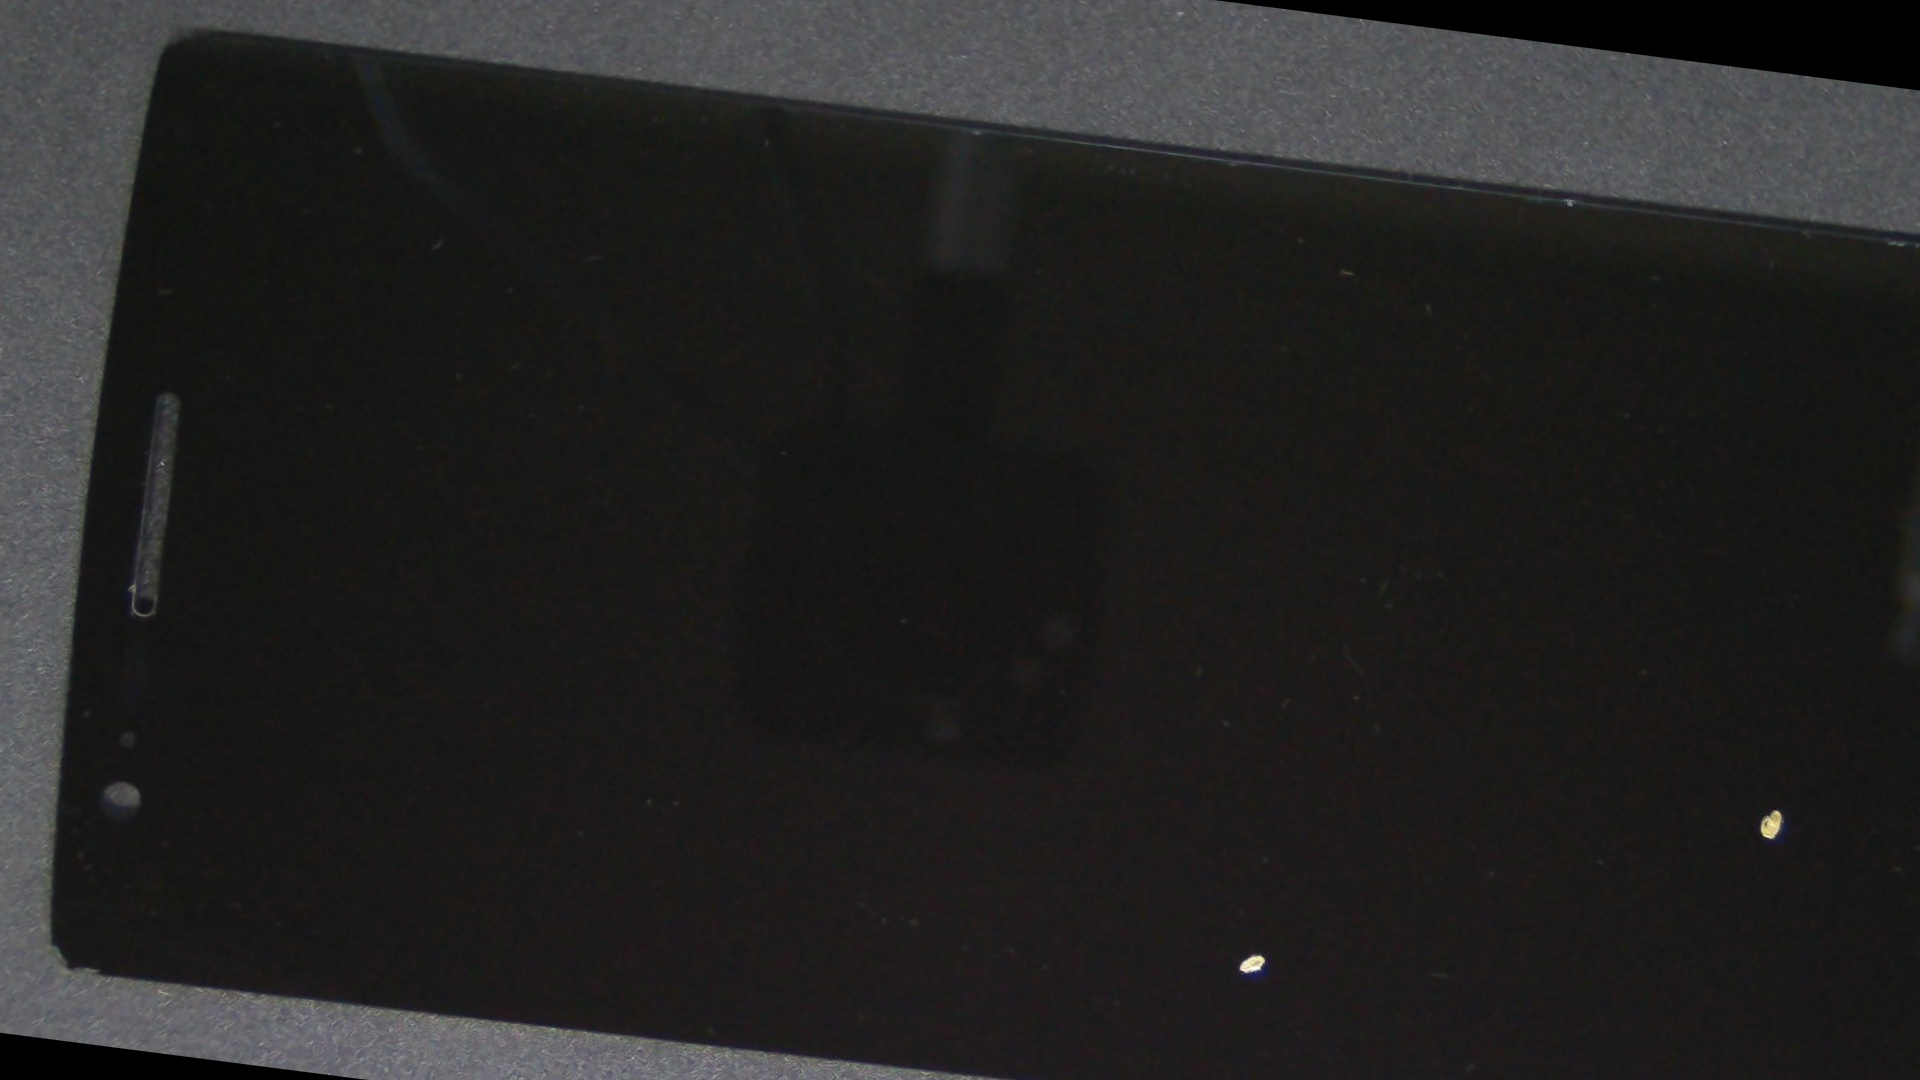oil: (543, 398, 1920, 1080), (800, 327, 1920, 1080)
